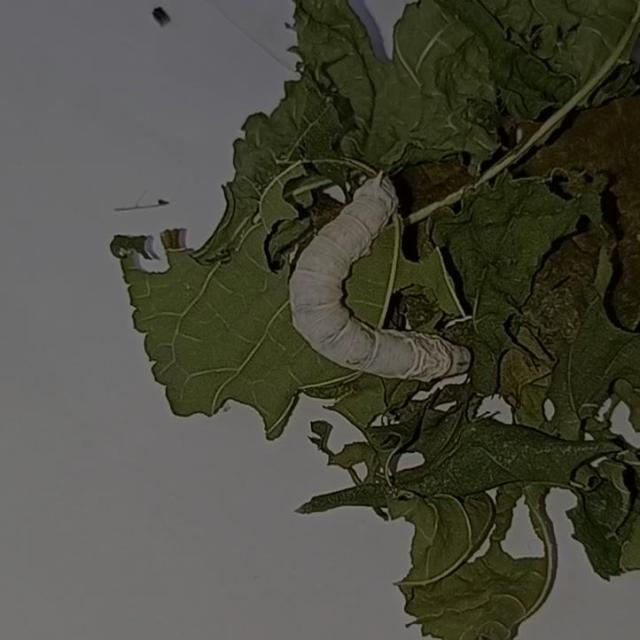Healthy: (275, 158, 488, 392)
